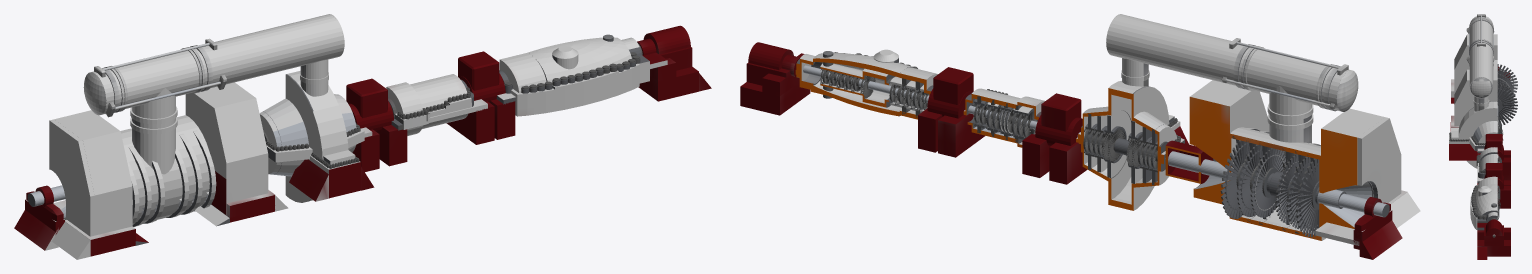
File: Schema.obj
The picture shows the model from 3 angles, left to right: view 1: azimuth 30°, elevation 25°; view 2: azimuth 150°, elevation 25°; view 3: azimuth 270°, elevation 25°; orthographic projection. The views are drawn at different scales.
Parts seen in each view (by area): view 1: Cylinder.260; view 2: Cylinder.260; view 3: Cylinder.260.
Boxes of the visible parts, x1,y1,x2,y2 form: Cylinder.260: (14,14,711,259); Cylinder.260: (740,14,1420,259); Cylinder.260: (1449,14,1517,259).
Bounding box in the file's own units: 14.64 × 3.93 × 2.46.
Materials: 1 (1 with a texture image).
